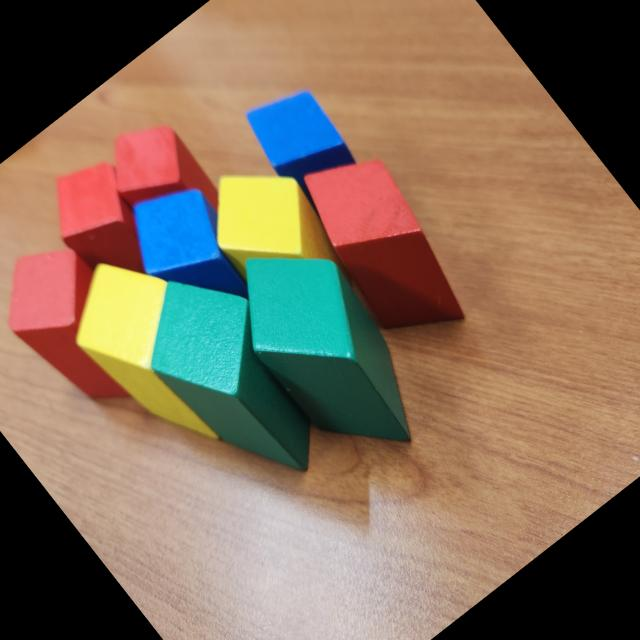blue: (107, 162, 275, 338), (234, 74, 364, 208)
green: (206, 213, 456, 484), (112, 246, 357, 510)
red: (277, 129, 495, 365), (0, 222, 171, 429), (88, 104, 245, 270), (28, 144, 179, 302)
yellow: (44, 234, 264, 473), (184, 140, 358, 322)
